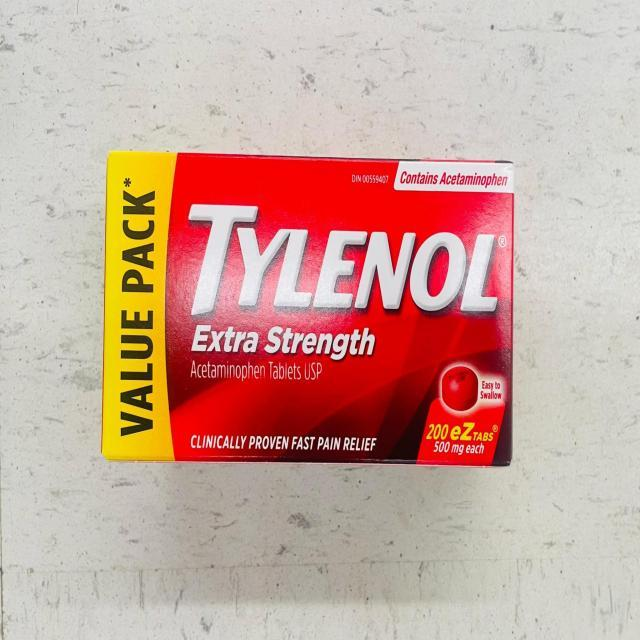Medicine Name: (176, 198, 499, 324)
